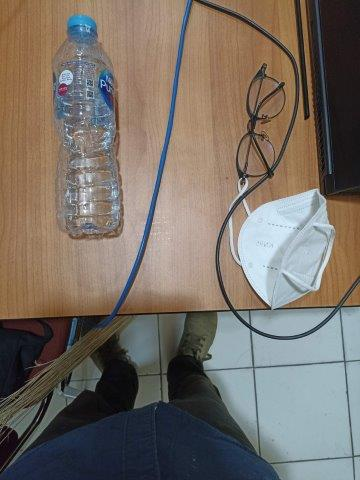botolplastik: (53, 13, 121, 237)
